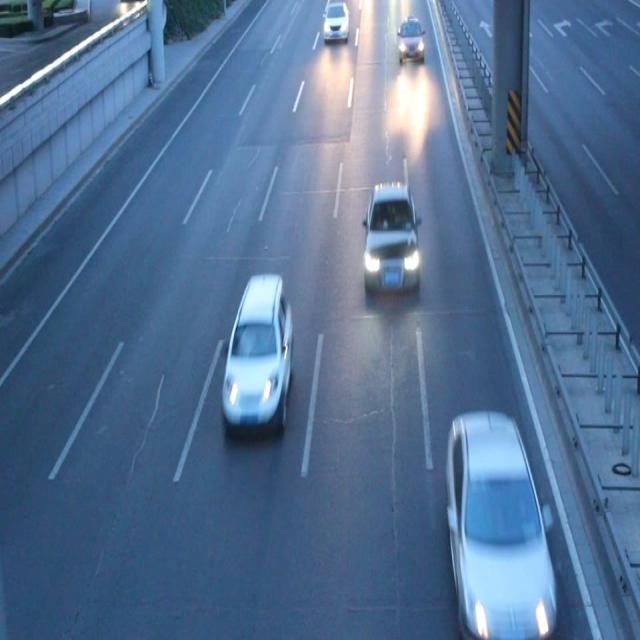car: (444, 412, 551, 640), (221, 275, 291, 433), (362, 182, 418, 292), (396, 19, 424, 63), (323, 1, 348, 40)
